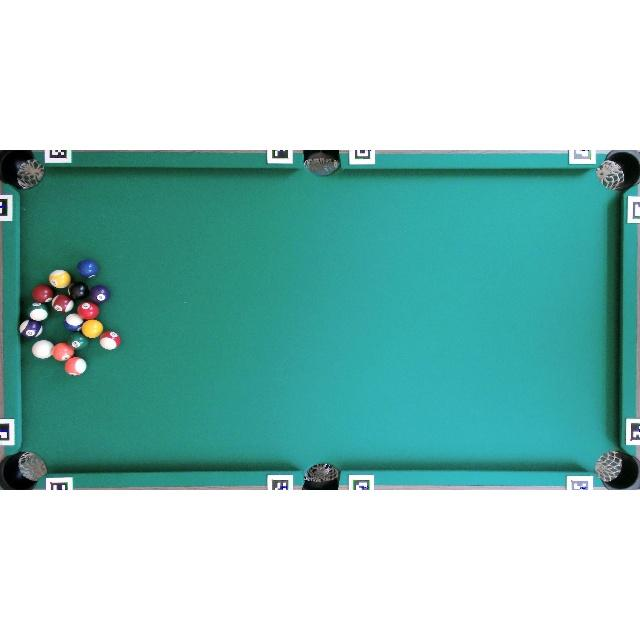cue ball: (31, 340, 54, 360)
other: (67, 280, 89, 302), (76, 259, 100, 279), (81, 319, 104, 339), (19, 320, 43, 339), (65, 356, 87, 376), (52, 342, 74, 362), (32, 284, 54, 304), (52, 294, 74, 314), (89, 284, 110, 304), (77, 301, 99, 320), (49, 270, 71, 288), (100, 331, 120, 350), (28, 303, 48, 322), (63, 314, 84, 332), (69, 334, 88, 351)
